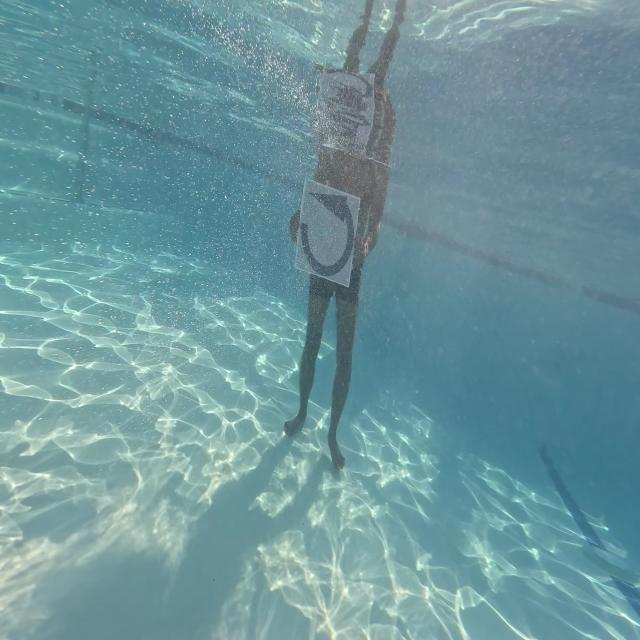blue_side: (299, 181, 356, 286)
